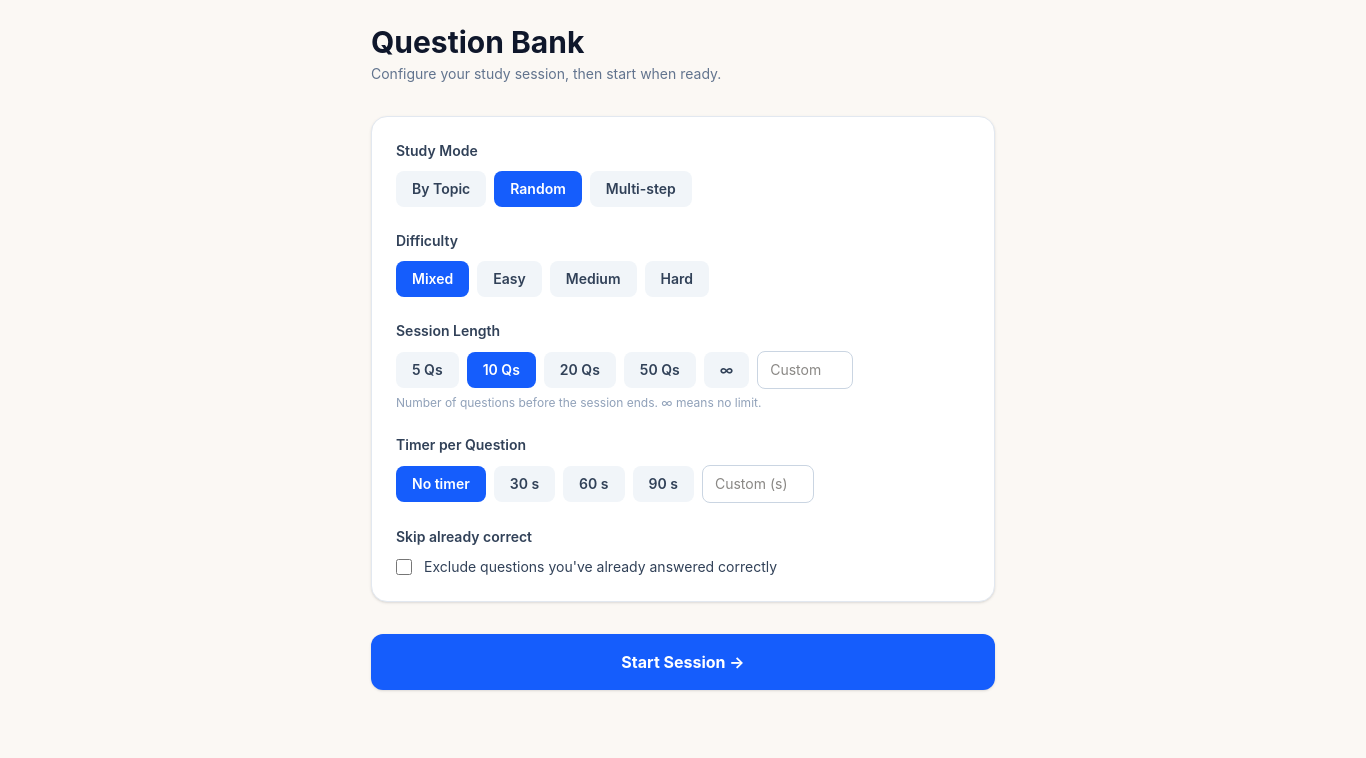
Test: QuestionsPage › clicking an option immediately submits and shows explanation
Click the button "Start Session →" at (683, 662), box [371, 634, 995, 690]
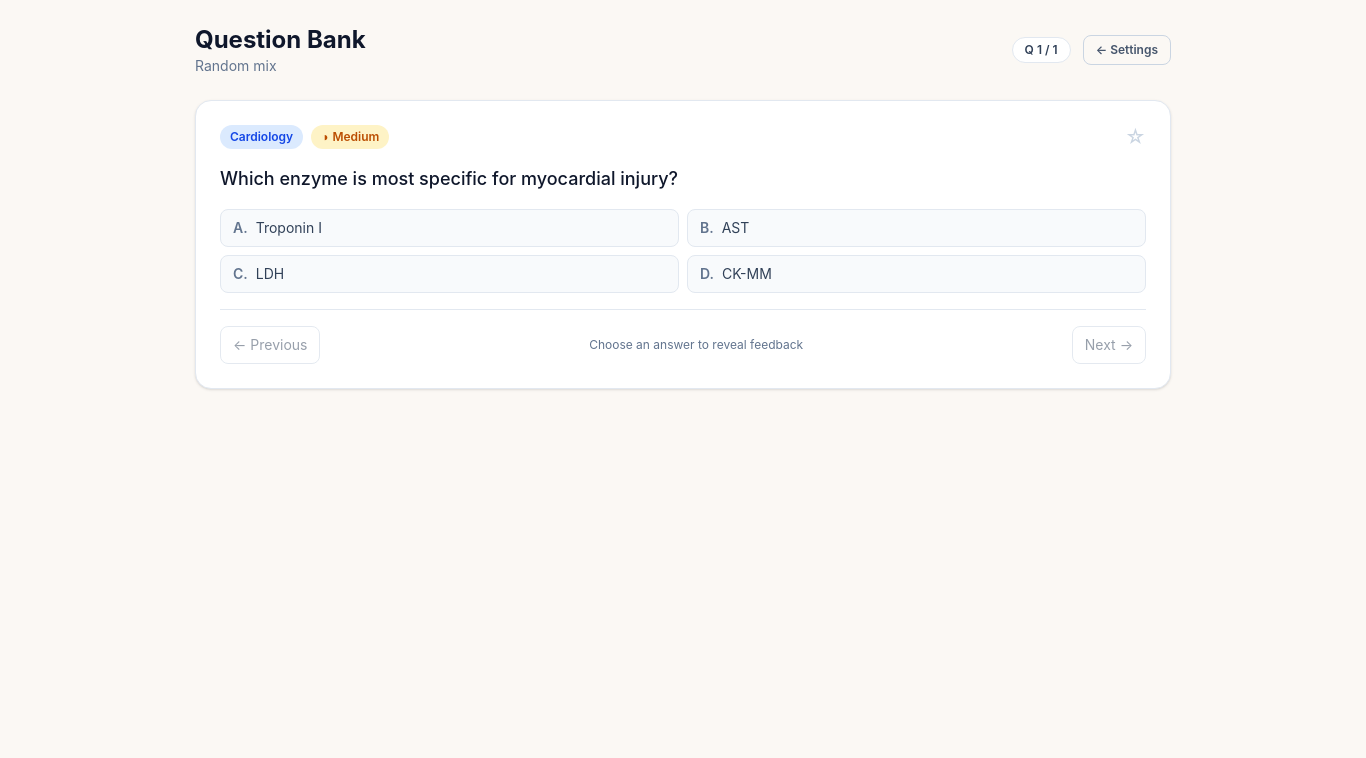
expect the text "Which enzyme is most specific for myocardial injury?" is shown: met, box [220, 168, 678, 189]
Click the button "A.Troponin I" at (289, 228), box [220, 209, 679, 247]
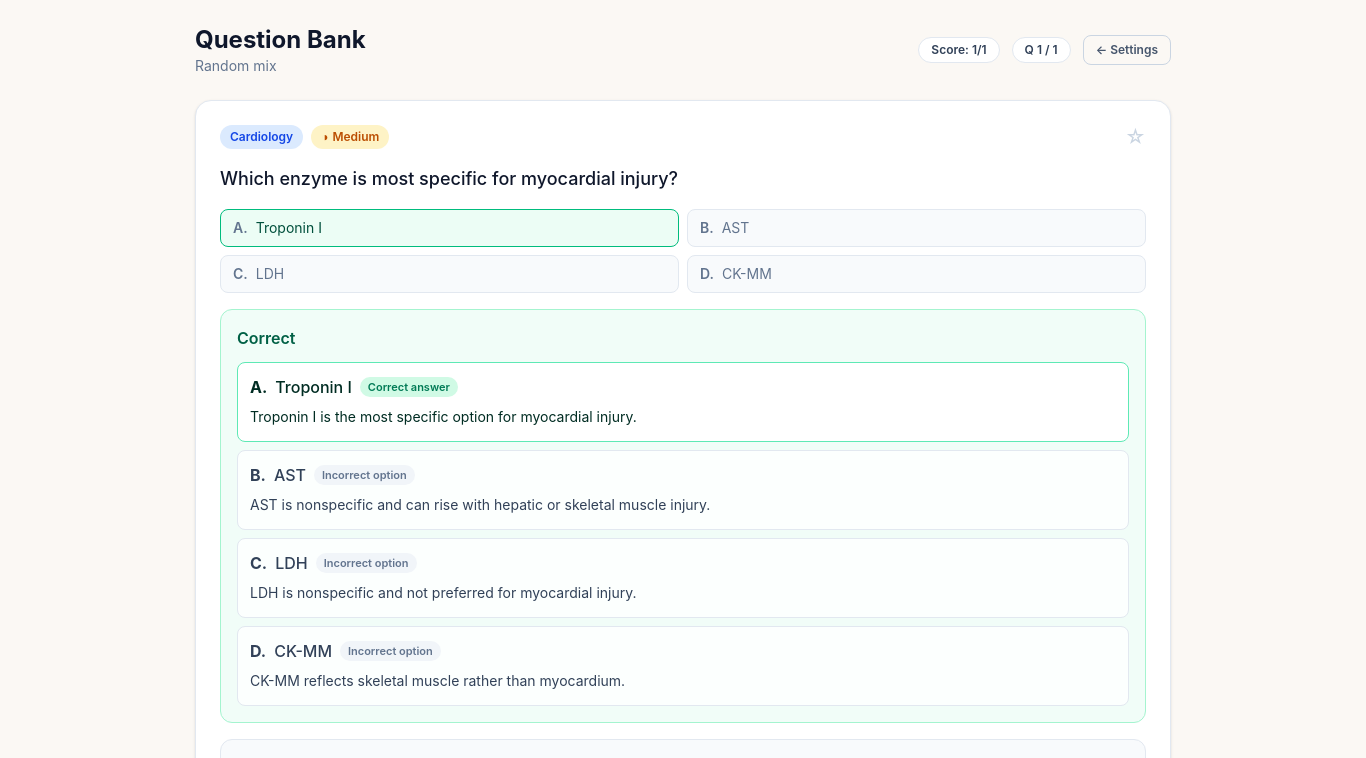
expect the text "Troponin I is the most specific option for myocardial injury." is shown: met, box [250, 408, 637, 425]
expect the text "AST is nonspecific and can rise with hepatic or skeletal muscle injury." is shown: met, box [250, 496, 710, 513]
